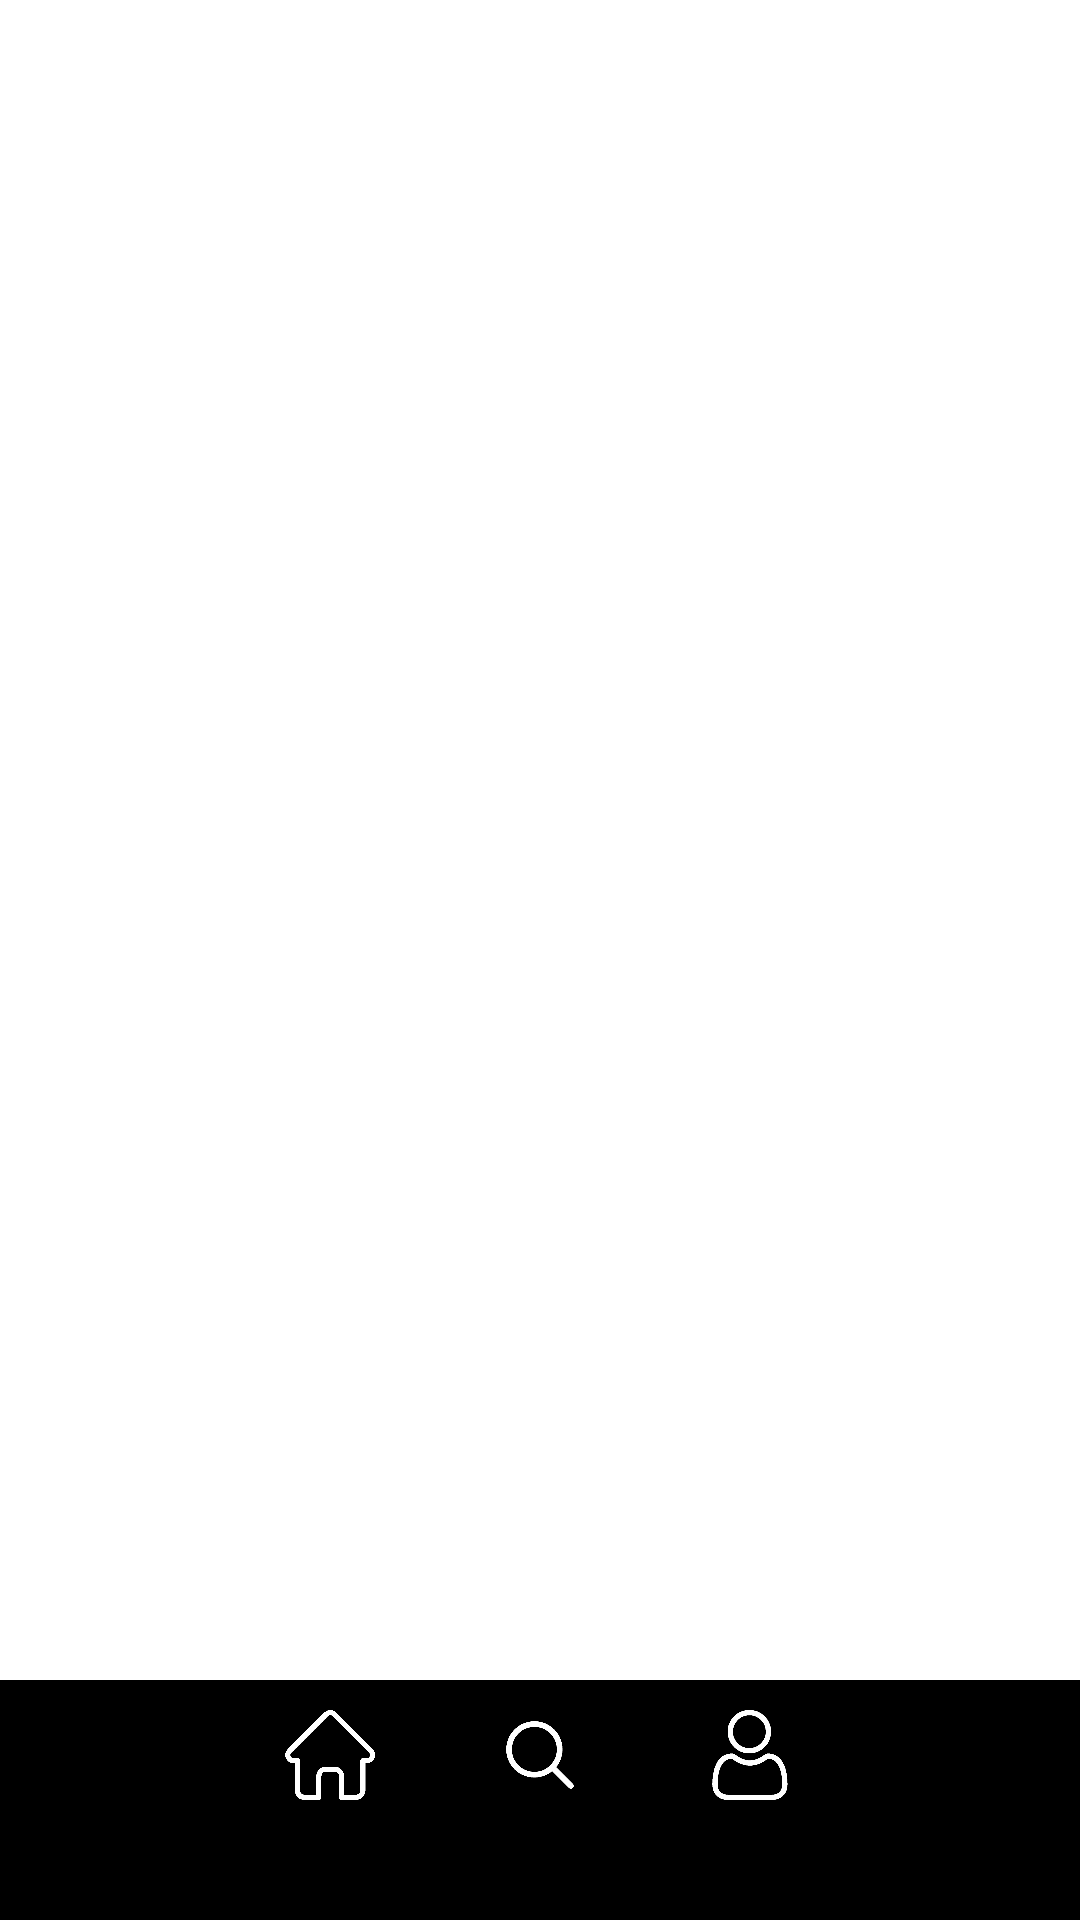

Icon click points for this 1080 × 1920 phone screenshot, format (x=x, y=y):
home: (x=330, y=1755)
search: (x=540, y=1755)
user: (x=750, y=1755)
